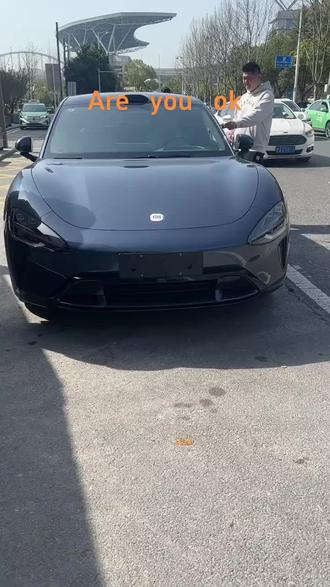su7: (7, 90, 291, 315)
